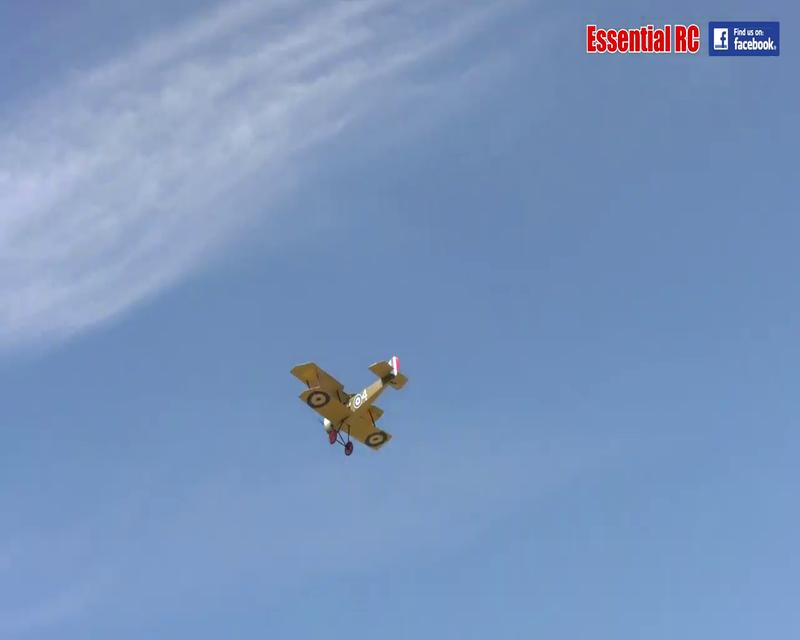UAV: (290, 355, 409, 454)
